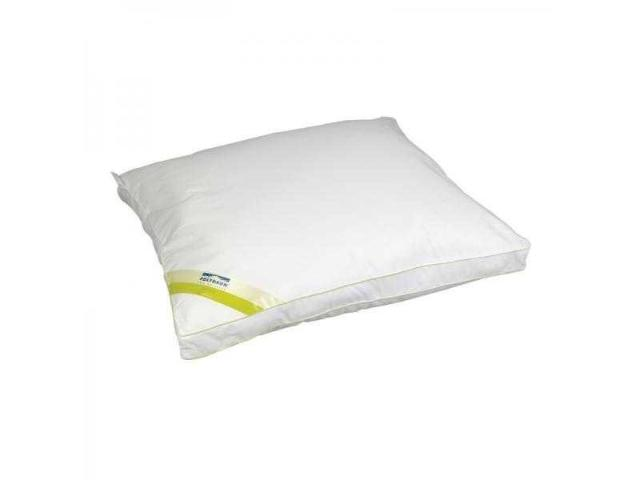pillow: (110, 115, 530, 360)
